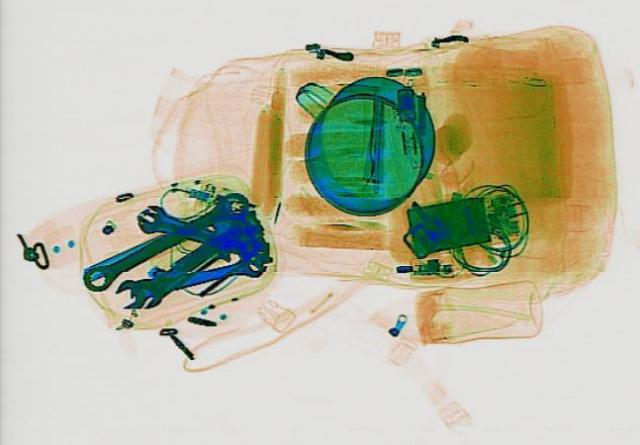Wrench: (68, 187, 262, 292), (106, 248, 270, 311), (125, 200, 277, 265)
